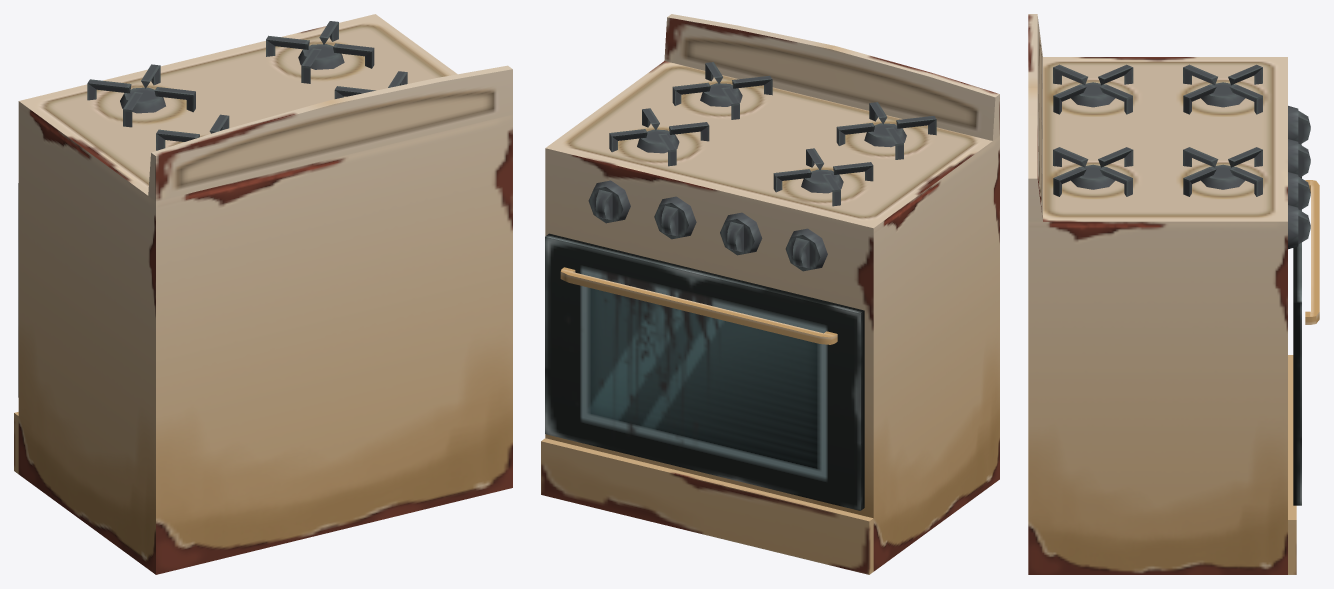
File: KTB0110010.fbx
The picture shows the model from 3 angles, left to right: view 1: azimuth 30°, elevation 25°; view 2: azimuth 150°, elevation 25°; view 3: azimuth 270°, elevation 25°; orthographic projection. The views are drawn at different scales.
Visible parts, largest first — view 1: smKTB0110010; view 2: smKTB0110010; view 3: smKTB0110010.
Part boxes in pixels (bbox=[...]): smKTB0110010: bbox=[14, 14, 512, 574]; smKTB0110010: bbox=[541, 14, 999, 574]; smKTB0110010: bbox=[1028, 14, 1319, 574].
Bounding box in the file's own units: 90 × 103 × 67.32.
1 material, 1 textured.
